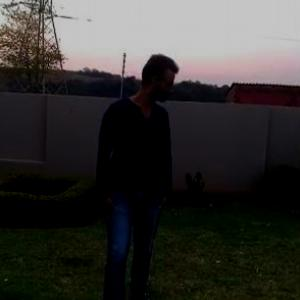follow: (91, 45, 180, 299)
